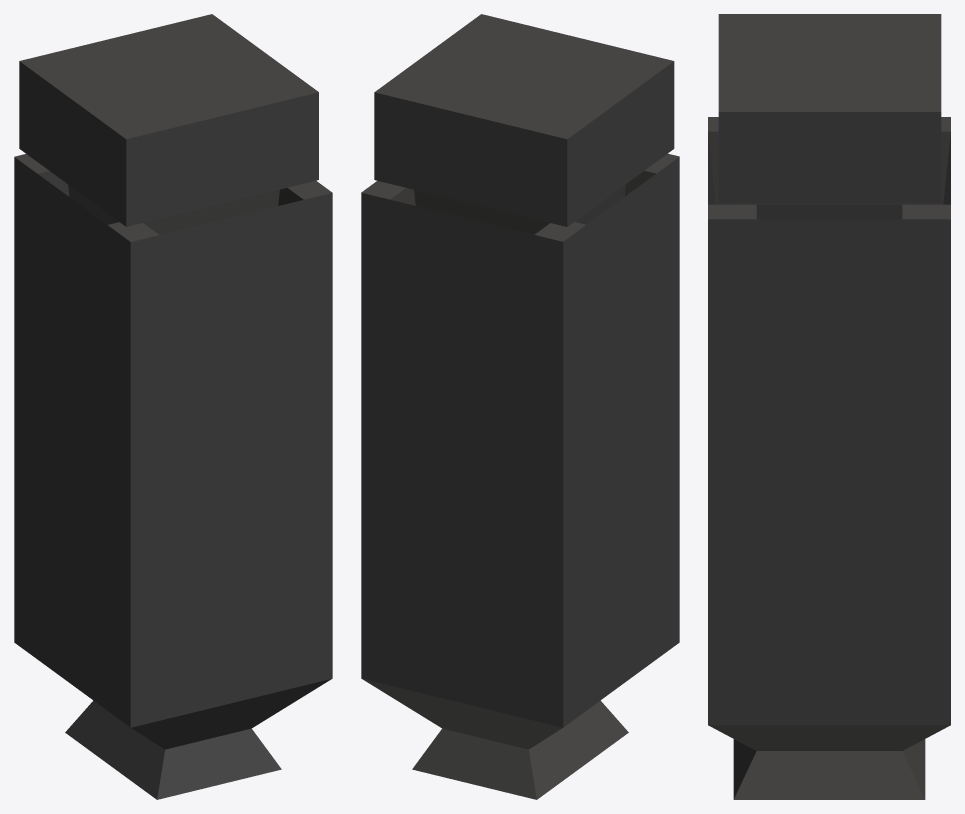
File: bin.fbx
3 renders of one model, left to right at view 1: azimuth 30°, elevation 25°; view 2: azimuth 150°, elevation 25°; view 3: azimuth 270°, elevation 25°, orthographic. The views are drawn at different scales.
Parts seen in each view (by area): view 1: bin; view 2: bin; view 3: bin.
Part boxes in pixels (x1,y1,x2,y2): bin: (14, 14, 332, 799); bin: (361, 14, 679, 799); bin: (708, 14, 950, 799).
Size of the model in its own units: 41.53 by 133 by 41.53.
